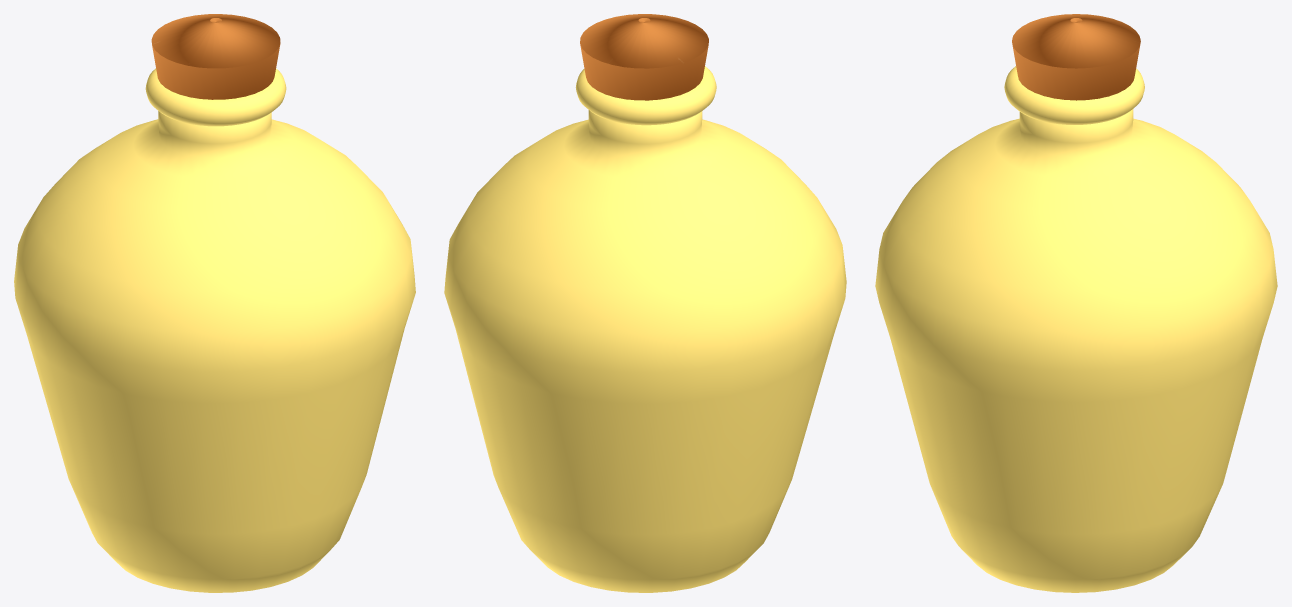
Rendered from FLASK.glb.
3 renders of one model, left to right at view 1: azimuth 30°, elevation 25°; view 2: azimuth 150°, elevation 25°; view 3: azimuth 270°, elevation 25°, orthographic.
Visible parts, largest first — view 1: Cylinder.003, Cylinder.001; view 2: Cylinder.003, Cylinder.001; view 3: Cylinder.003, Cylinder.001.
Part boxes in pixels (bbox=[...]): Cylinder.003: bbox=[14, 68, 415, 592]; Cylinder.001: bbox=[151, 14, 280, 99]; Cylinder.003: bbox=[444, 66, 846, 592]; Cylinder.001: bbox=[580, 14, 708, 100]; Cylinder.003: bbox=[875, 66, 1277, 592]; Cylinder.001: bbox=[1012, 14, 1140, 100].
Bounding box in the file's own units: 2.09 × 3.07 × 2.09.
2 materials, 2 textured.
